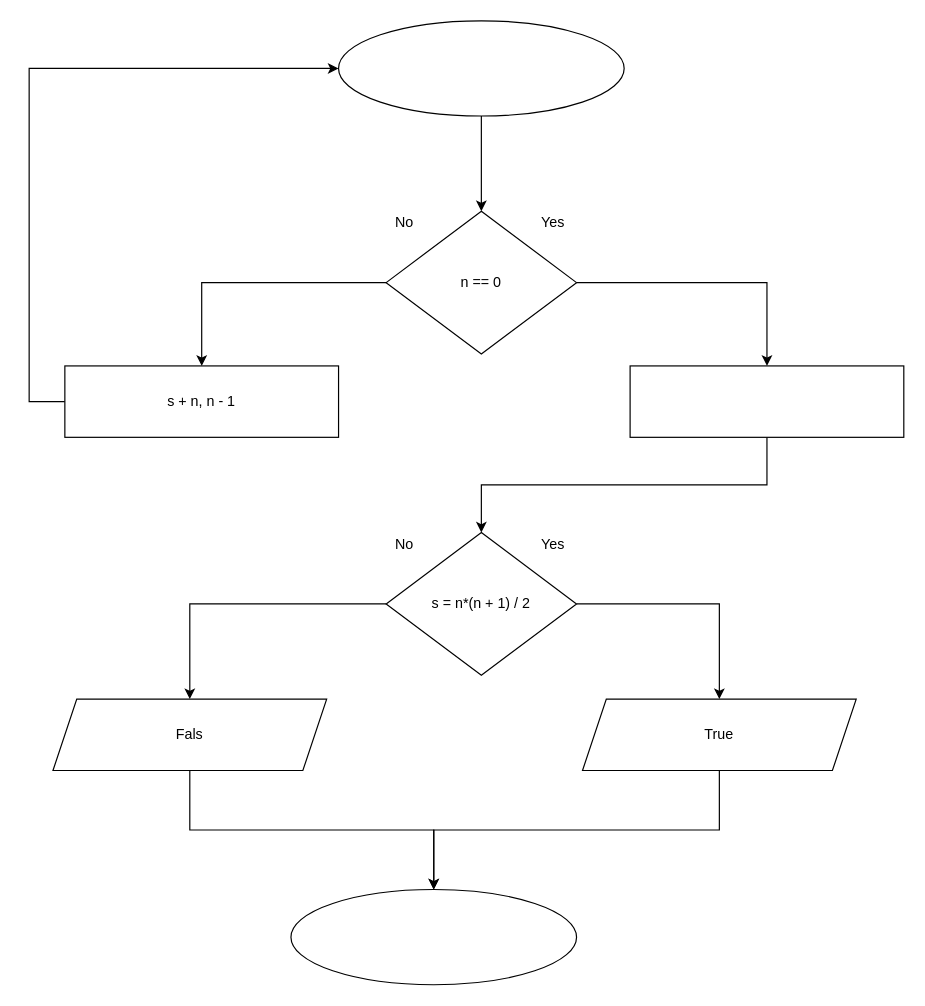
Image size: 925x1006. Some labels were removed from this diagram. The centre of each missing label's shape, as x and y in pixels:
"return s" goes at (x=766, y=401).
"sumn(n, s = 0)" goes at (x=480, y=68).
"Конец" goes at (x=433, y=936).
